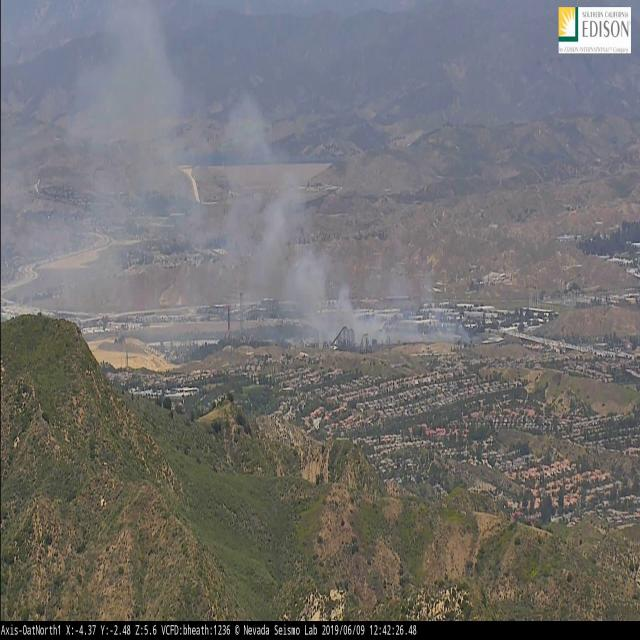smoke: (22, 0, 466, 370)
